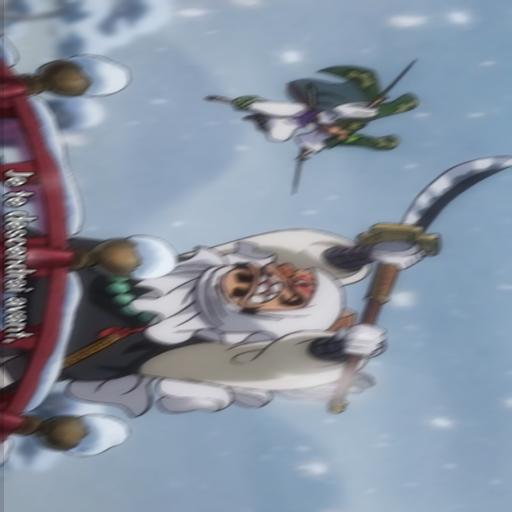Zoro: (210, 48, 439, 182)
